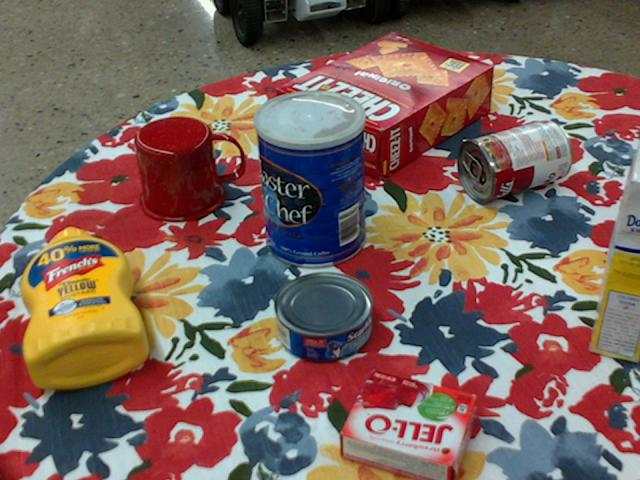cracker_box: (278, 34, 495, 180)
gelatin_box: (341, 371, 483, 479)
large_marker: (637, 158, 639, 167)
master_chef_can: (253, 89, 366, 268)
mug: (134, 116, 243, 222)
mustard_bottle: (21, 227, 149, 388)
sugar_box: (591, 146, 639, 362)
tomato_soup_can: (458, 118, 573, 202)
tuna_fish_can: (273, 273, 373, 363)
